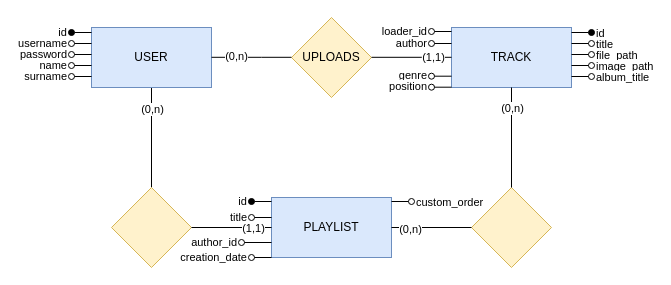
Image size: 671x285. Some labels were removed from this diagram. The centre of each missing label's shape, as x and y in pixels:
"CONTAINS" goes at pixel 511 227.
"CREATES" goes at pixel 151 227.
